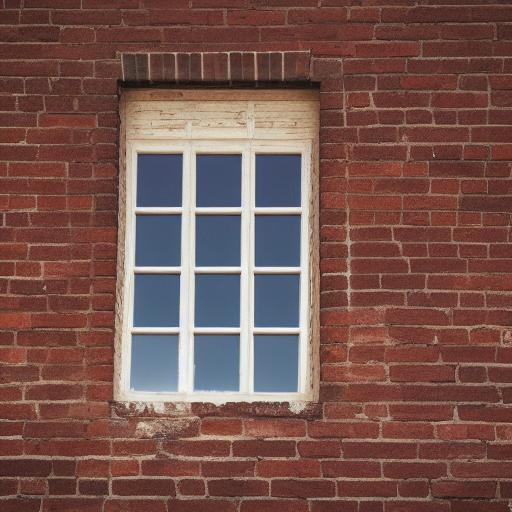Window: (114, 49, 318, 417)
